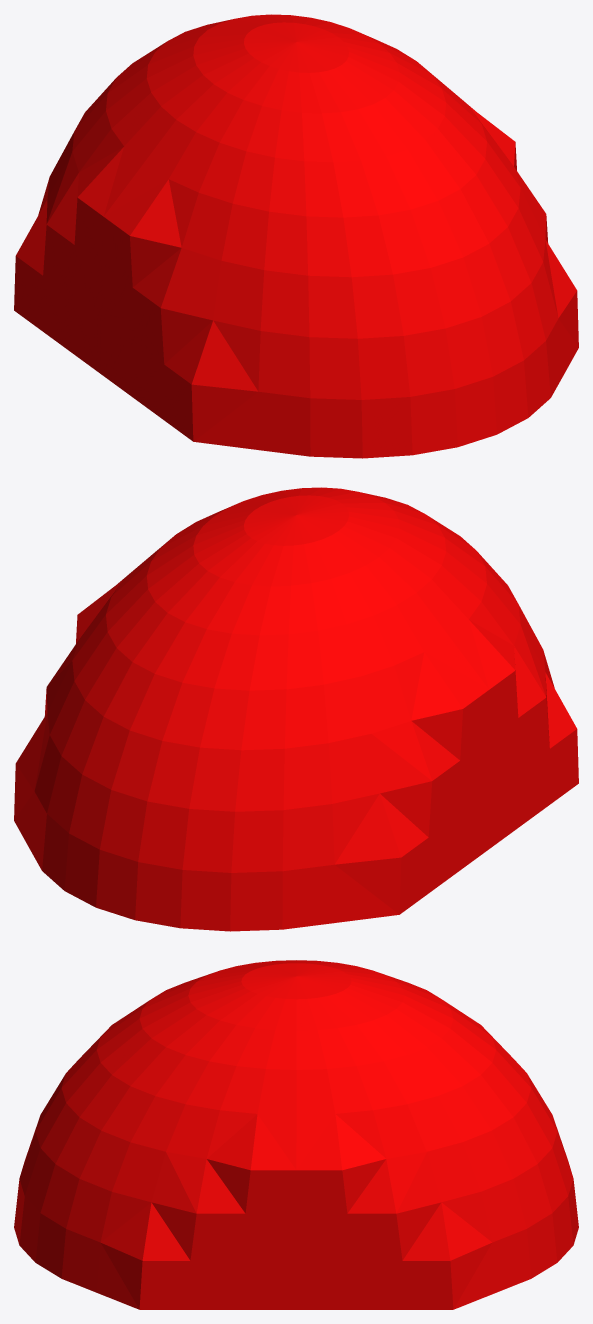
Rendered from luces_casco.obj.
The picture shows the model from 3 angles, top to bottom: view 1: azimuth 30°, elevation 25°; view 2: azimuth 150°, elevation 25°; view 3: azimuth 270°, elevation 25°; orthographic projection. The views are drawn at different scales.
Parts seen in each view (by area): view 1: luces_casco; view 2: luces_casco; view 3: luces_casco.
Boxes of the visible parts, <box> form: luces_casco: <box>14,14,578,458</box>; luces_casco: <box>14,487,578,931</box>; luces_casco: <box>14,960,578,1309</box>.
Size of the model in its own units: 0.9508 by 0.6762 by 1.38.
